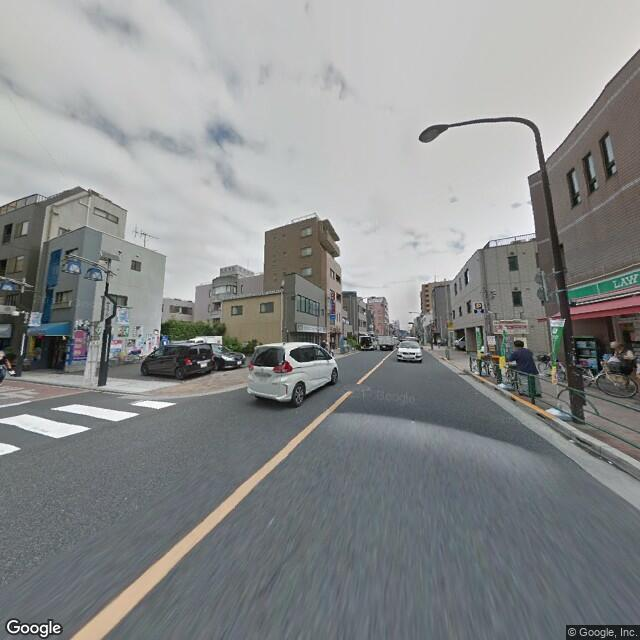lawson: (566, 259, 639, 310)
